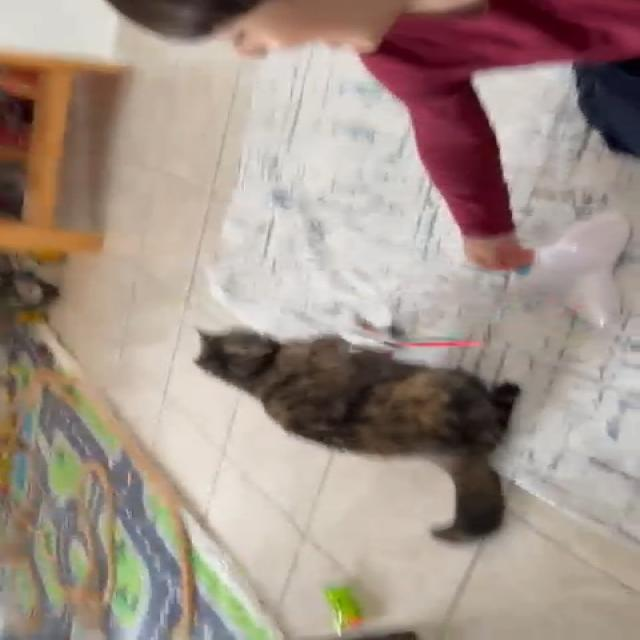authorized: (190, 324, 522, 542)
